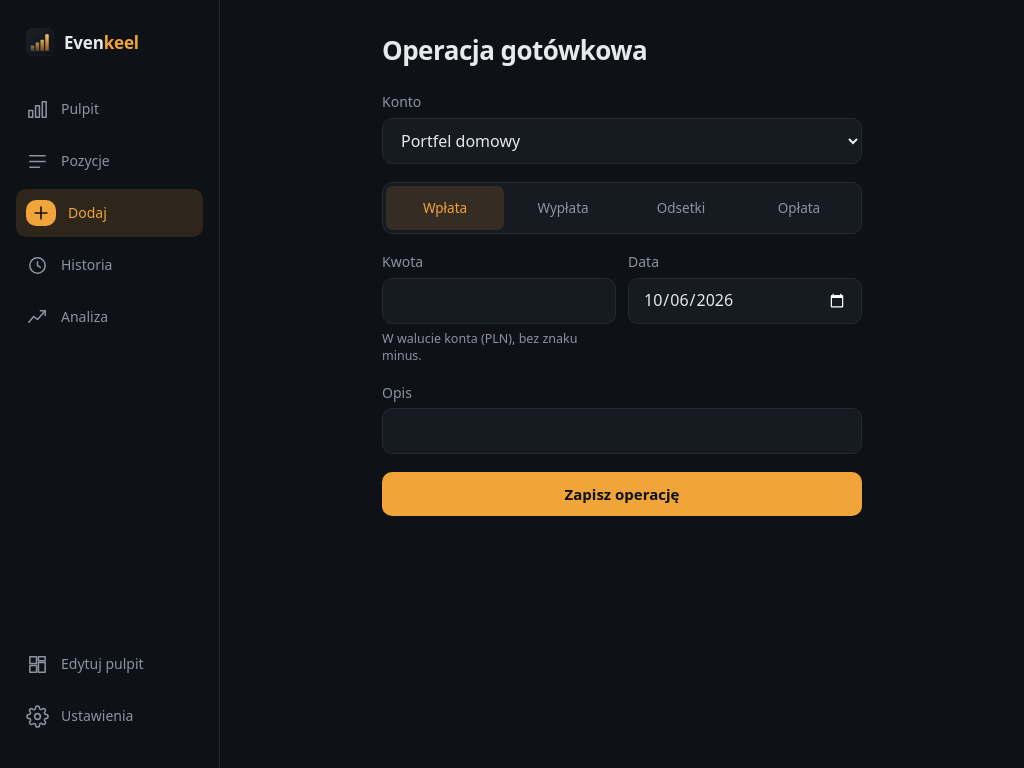
Test: cash operation form › shows the API's answer next to the field it is about and keeps what was typed
Type "50" into the field labelled "Kwota" at (499, 301), box [382,278,616,324]
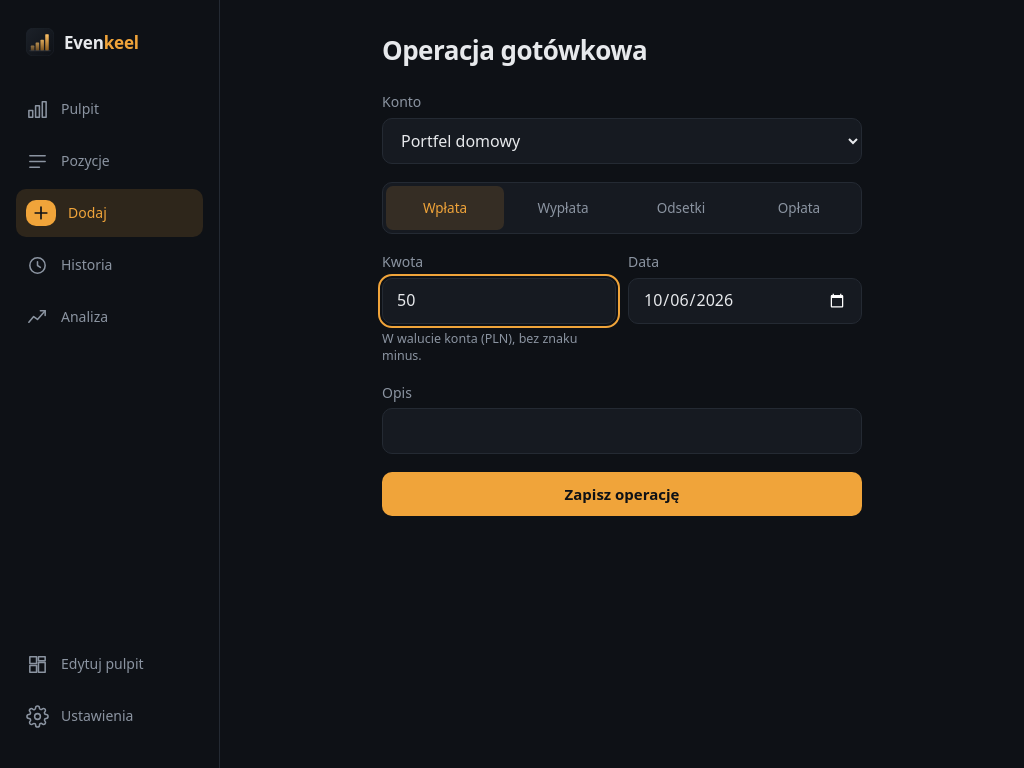
Type "2026-09-01" into the date field labelled "Data" at (745, 301), box [628,278,862,324]
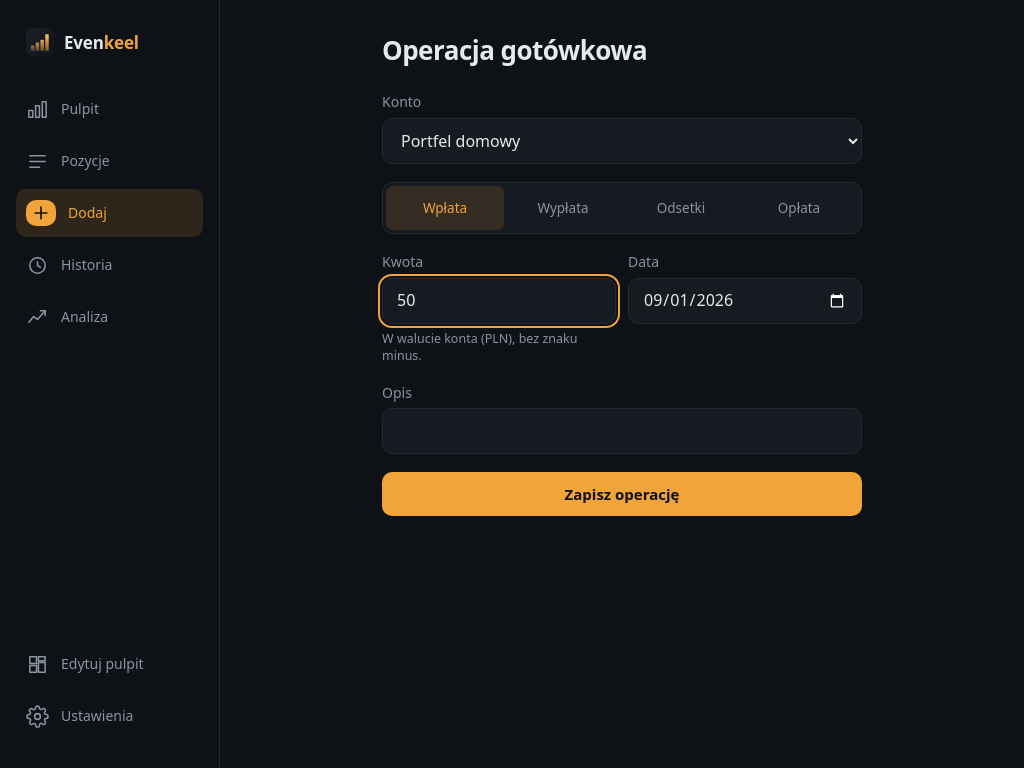
Click the button "Zapisz operację" at (622, 494), box [382,472,862,516]
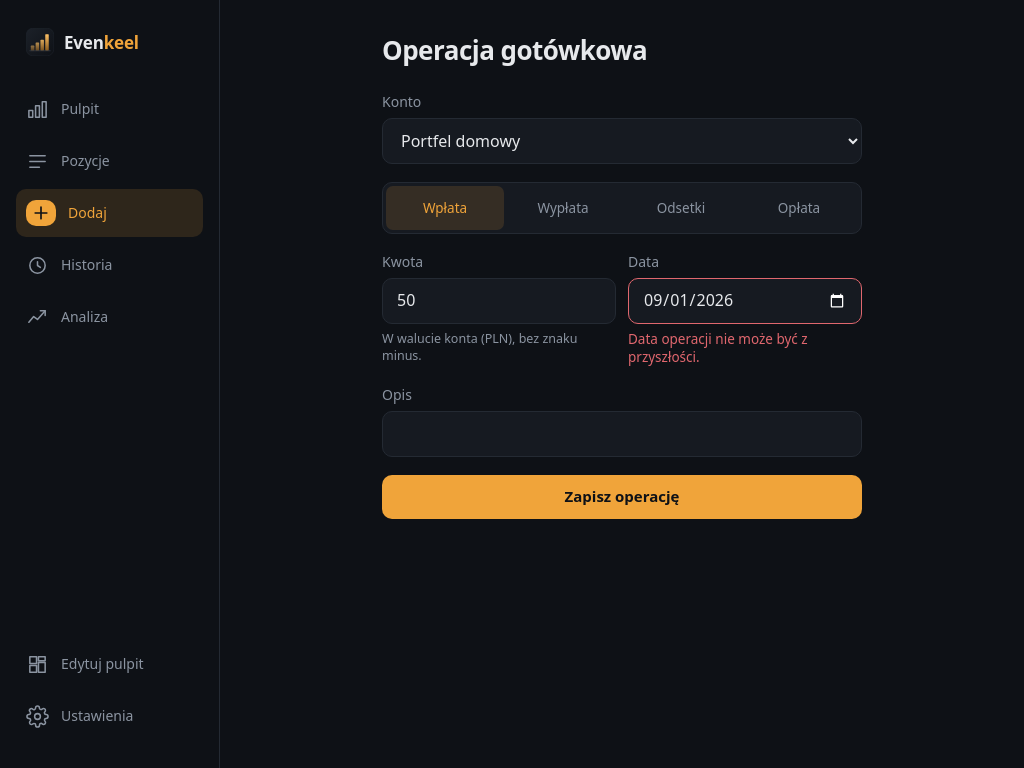
expect the text "Data operacji nie może być z przyszłości." is shown: met, box [628,330,808,366]
